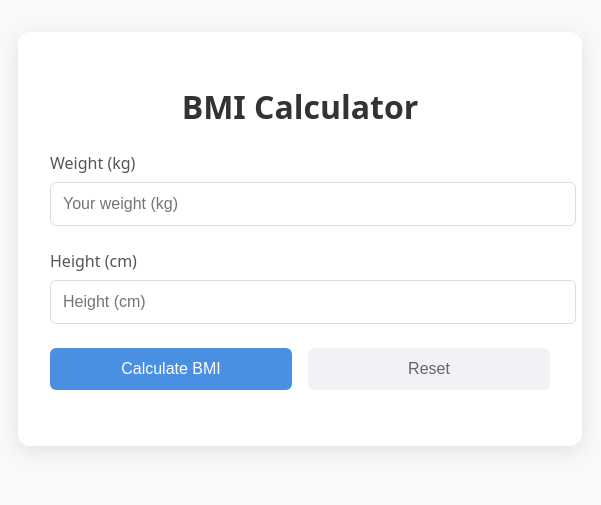
Scenario: BMI Calculator › shows error for unrealistic weight value
Type "600" into the number field labelled "Weight (kg)". click: (313, 204)
box: [50,182,576,226]
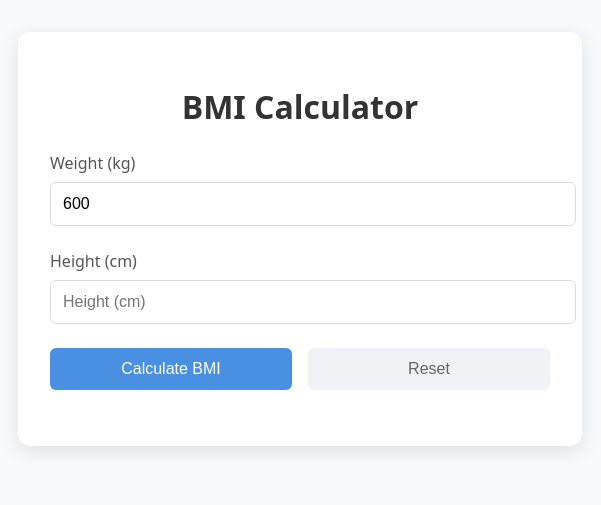
Type "175" into the number field labelled "Height (cm)". click: (313, 302)
box: [50,280,576,324]
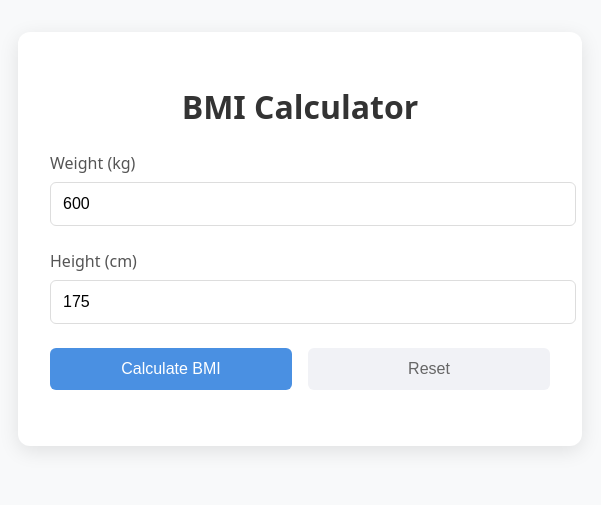
Click the button "Calculate BMI". click: (171, 369)
box: [50,348,292,390]
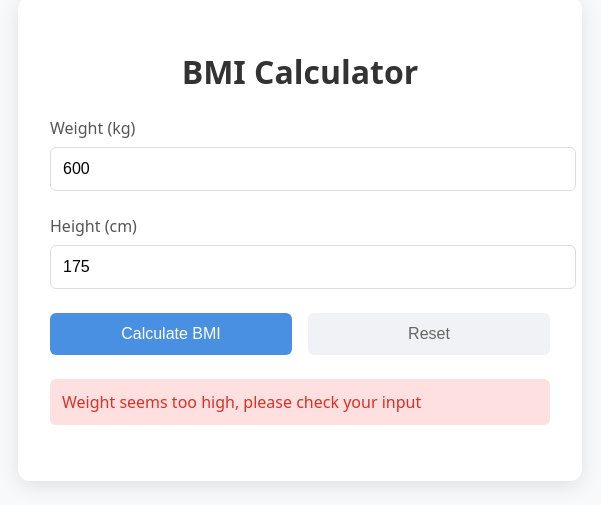
Result: the text "Weight seems too high, please check your input" is shown at [50,379,550,425]
